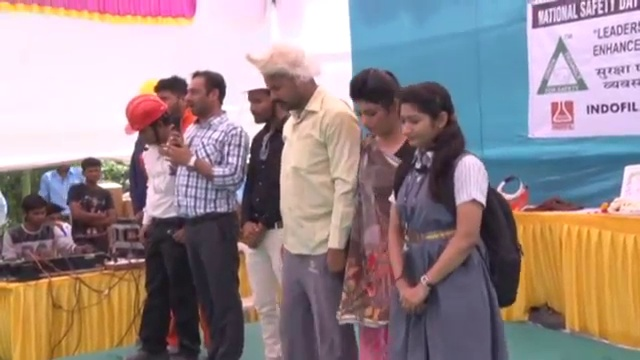helmet: (123, 91, 173, 133)
helmet_off: (389, 81, 460, 163), (349, 65, 405, 159), (258, 53, 317, 115), (184, 72, 228, 118), (150, 75, 184, 116), (20, 194, 48, 232), (236, 70, 277, 95), (78, 158, 102, 189)
helmet_on: (123, 92, 173, 147), (237, 68, 277, 128)
person: (383, 63, 523, 360), (262, 40, 361, 360), (170, 71, 248, 358), (121, 90, 201, 360), (339, 71, 410, 355), (236, 64, 289, 360), (3, 194, 90, 265), (65, 160, 112, 243), (37, 161, 85, 204)
